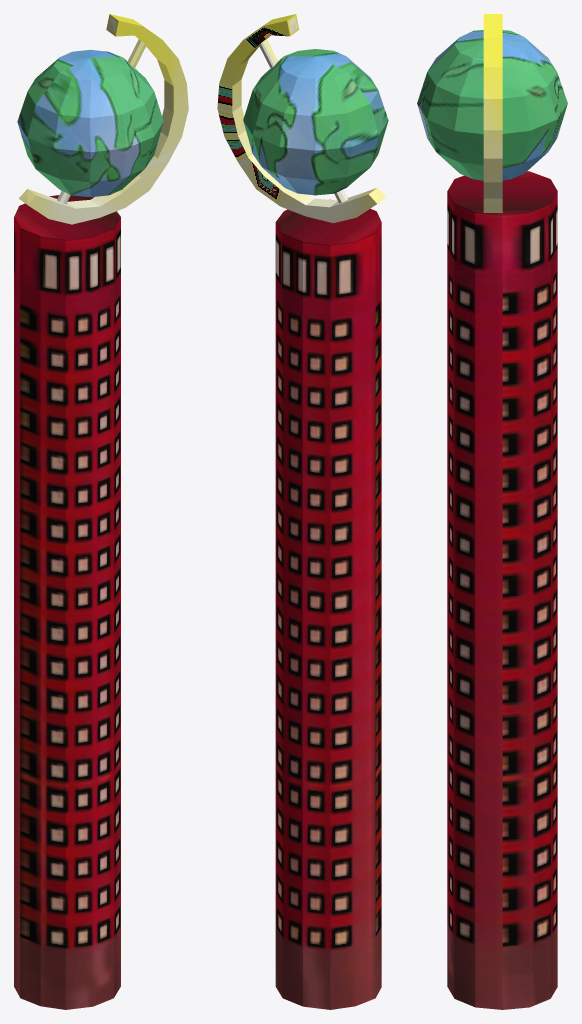
Rendered from Bank.glb.
The picture shows the model from 3 angles, left to right: view 1: azimuth 30°, elevation 25°; view 2: azimuth 150°, elevation 25°; view 3: azimuth 270°, elevation 25°; orthographic projection. The views are drawn at different scales.
Visible parts, largest first — view 1: Bank; view 2: Bank; view 3: Bank.
Part boxes in pixels (bbox=[...]): Bank: bbox=[14, 14, 188, 1009]; Bank: bbox=[217, 14, 388, 1009]; Bank: bbox=[417, 14, 567, 1009].
Bounding box in the file's own units: 184 × 1051 × 144.
Materials: 1 (1 with a texture image).
